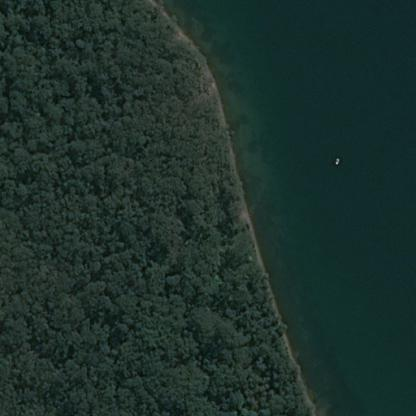ship: (334, 158, 339, 164)
